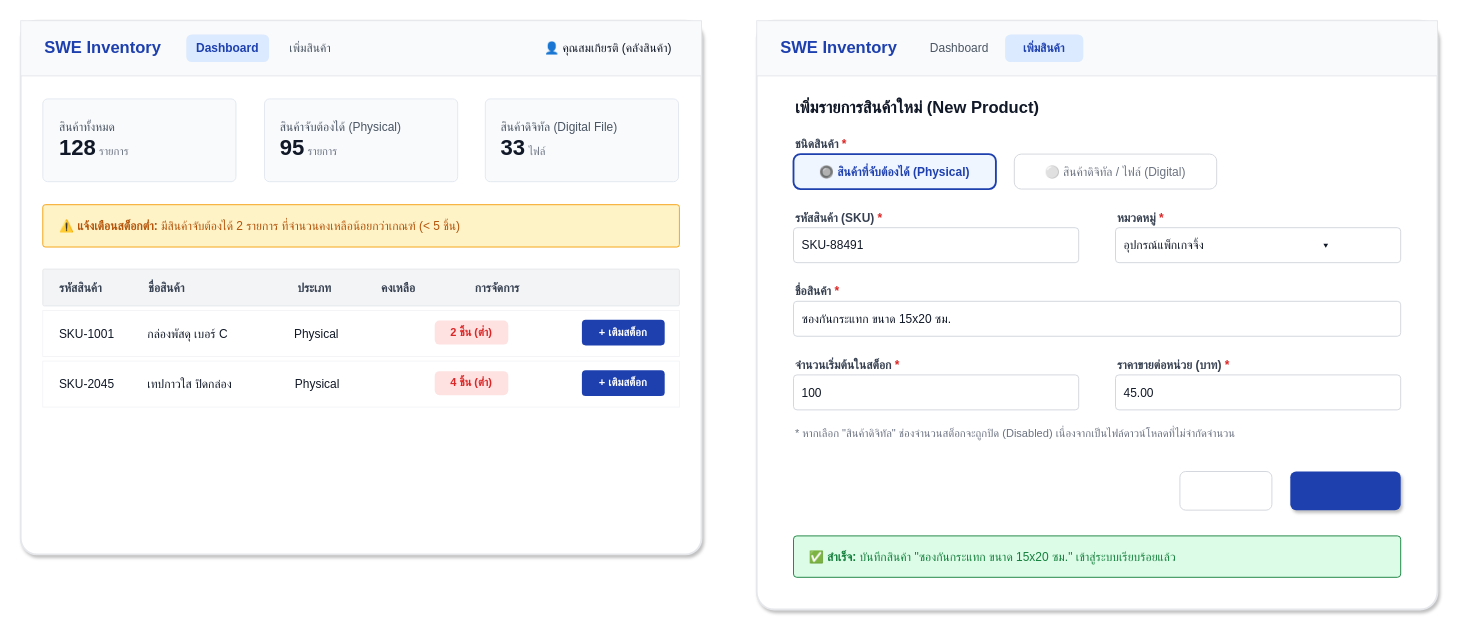
Some shapes in this 1459 by 632 pixel diagram are drawn without their labels. The shapes that lost their labels are listed below. From the top down, each one's centre as x and y in pixels, then its label:
At point (1225, 490): "ยกเลิก".
At point (1346, 491): "บันทึกสินค้า".
